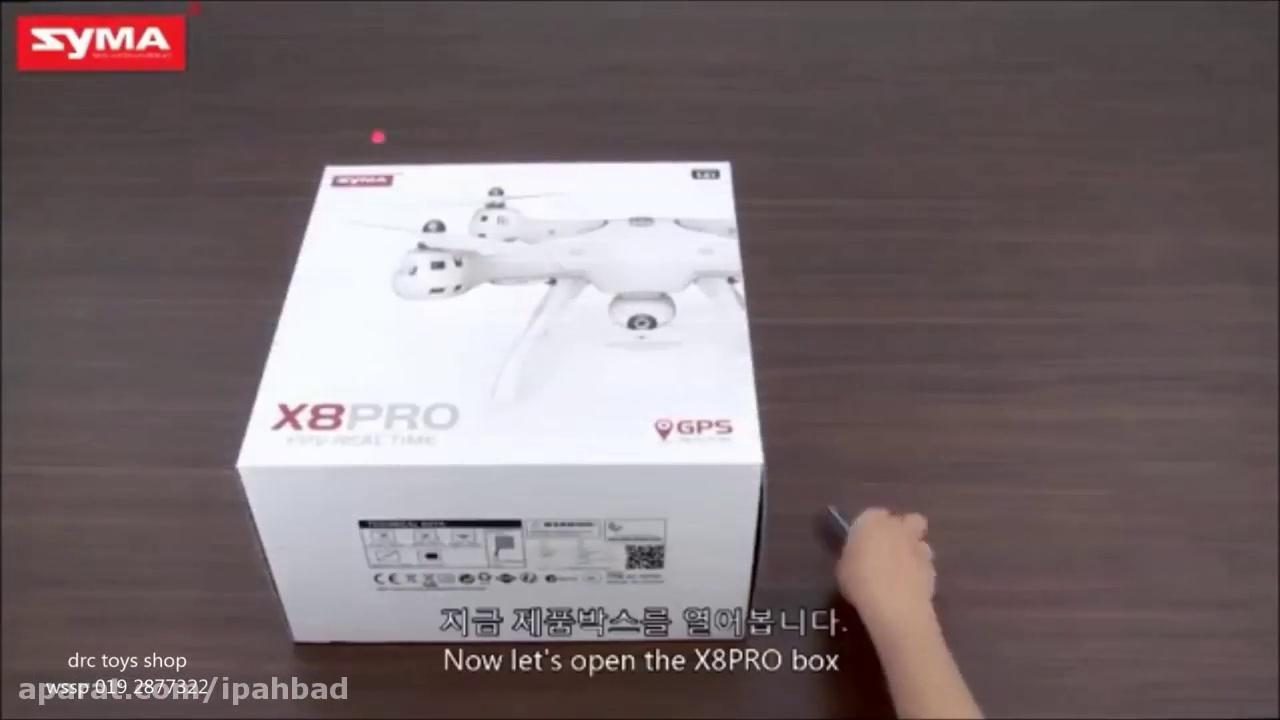drone: (347, 185, 754, 386)
